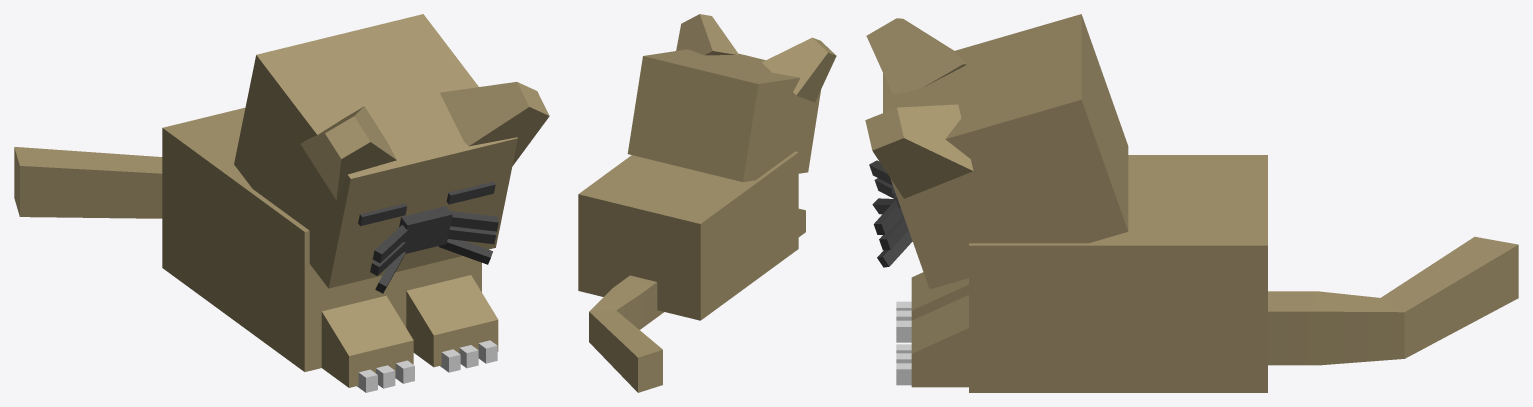
Rendered from cat.fbx.
3 views of the same model, side by side, from view 1: azimuth 30°, elevation 25°; view 2: azimuth 150°, elevation 25°; view 3: azimuth 270°, elevation 25° (orthographic). The views are drawn at different scales.
Parts seen in each view (by area): view 1: Cube151; view 2: Cube151; view 3: Cube151.
Boxes of the visible parts, left/top/right/bottom form: Cube151: left=14, top=14, right=549, bottom=392; Cube151: left=578, top=14, right=836, bottom=392; Cube151: left=865, top=14, right=1518, bottom=392.
Bounding box in the file's own units: 199 × 223 × 437.
